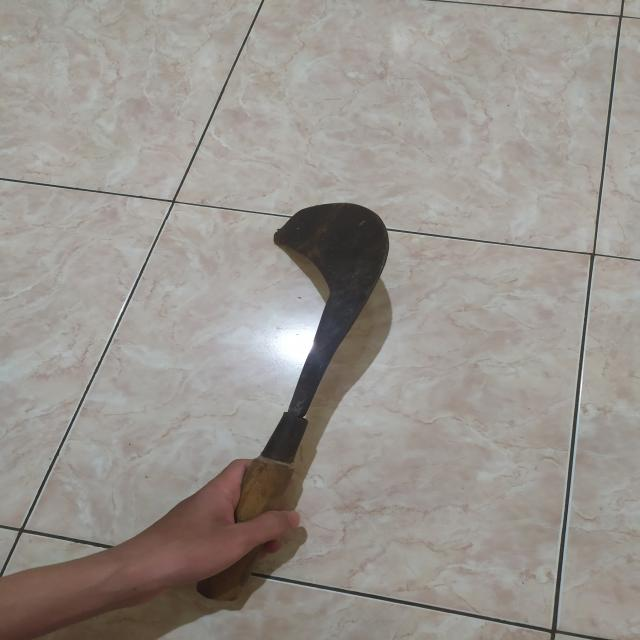Celurit: (191, 203, 389, 601)
